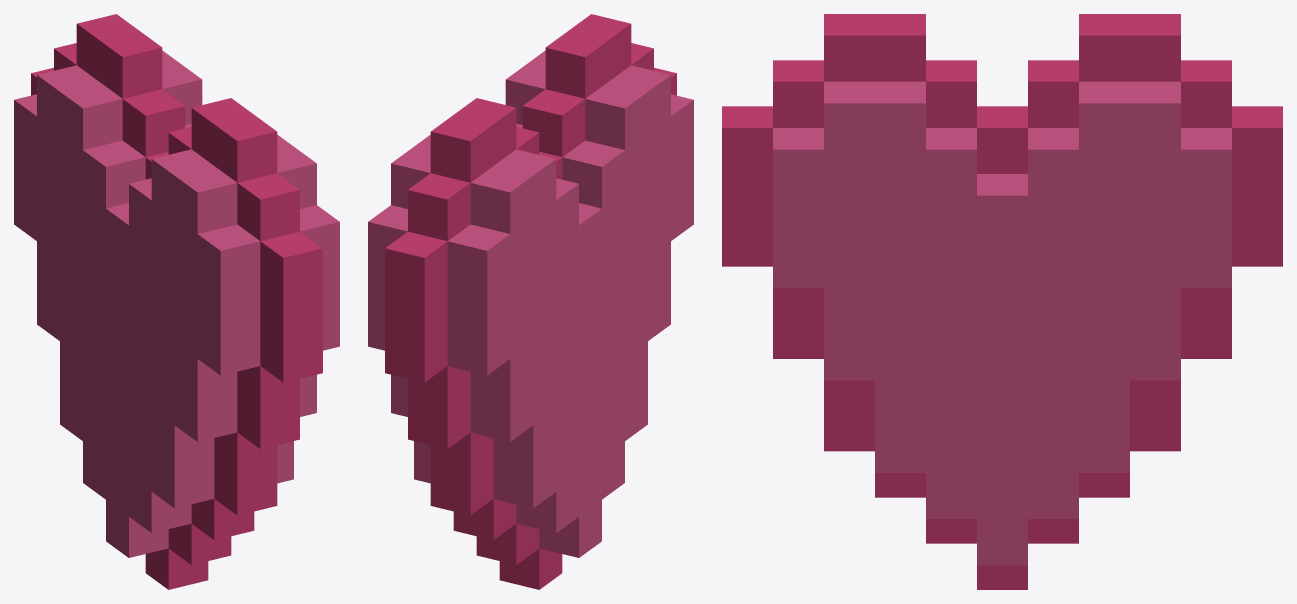
The model's file is Heart.fbx.
The picture shows the model from 3 angles, left to right: view 1: azimuth 30°, elevation 25°; view 2: azimuth 150°, elevation 25°; view 3: azimuth 270°, elevation 25°; orthographic projection. The views are drawn at different scales.
Parts seen in each view (by area): view 1: Untitled.001; view 2: Untitled.001; view 3: Untitled.001.
Boxes of the visible parts, x1,y1,x2,y2 form: Untitled.001: (14,14,339,589); Untitled.001: (368,14,693,589); Untitled.001: (722,14,1282,589).
Size of the model in its own units: 67.54 by 270 by 248.
